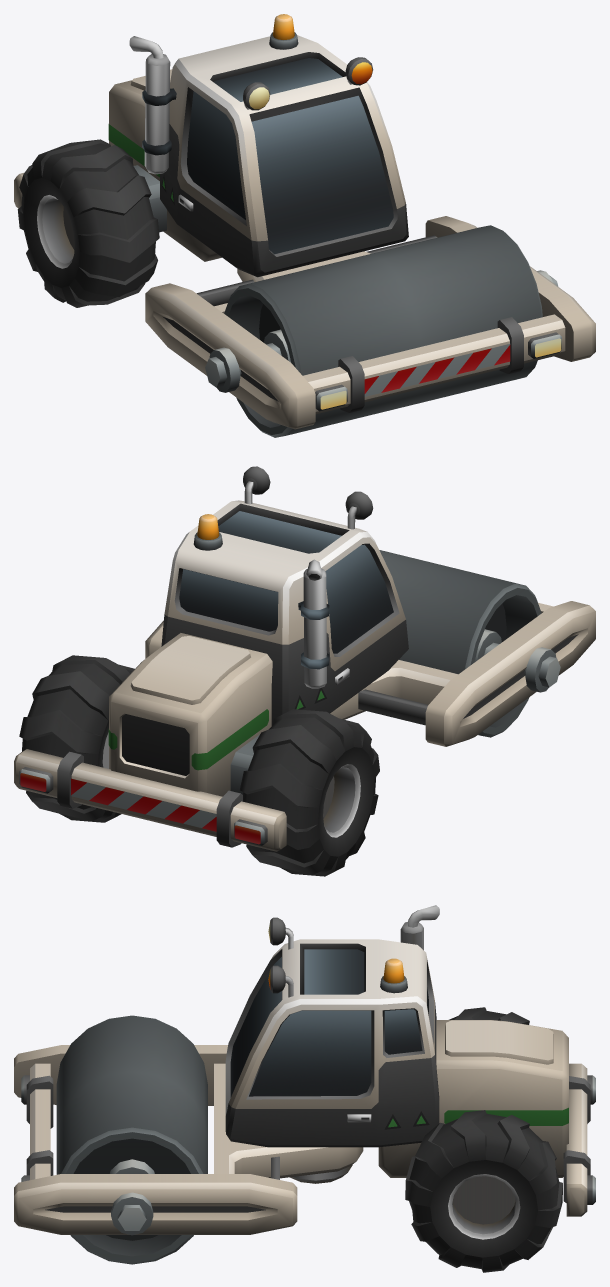
Rendered from VHC0110021.FBX.
3 renders of one model, top to bottom at view 1: azimuth 30°, elevation 25°; view 2: azimuth 150°, elevation 25°; view 3: azimuth 270°, elevation 25°, orthographic. The views are drawn at different scales.
Visible parts, largest first — view 1: smVHC0110021; view 2: smVHC0110021; view 3: smVHC0110021.
Boxes of the visible parts, left/top/right/bottom form: smVHC0110021: left=14, top=14, right=595, bottom=437; smVHC0110021: left=14, top=466, right=595, bottom=876; smVHC0110021: left=14, top=905, right=595, bottom=1272.
Size of the model in its own units: 3.83 by 3.01 by 5.93.
1 material, 1 textured.
